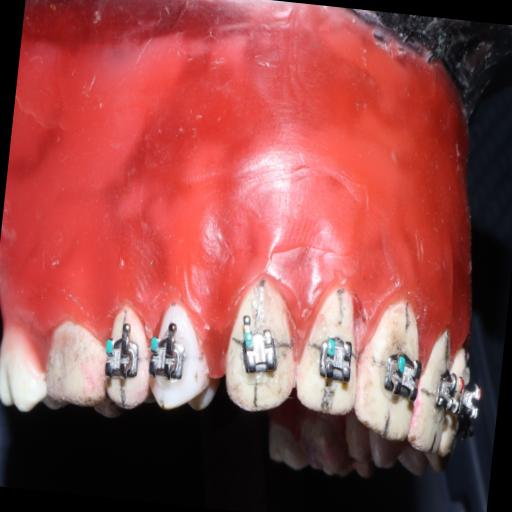incorrect_brace: (290, 290, 366, 416), (238, 323, 280, 377), (316, 334, 356, 382)
